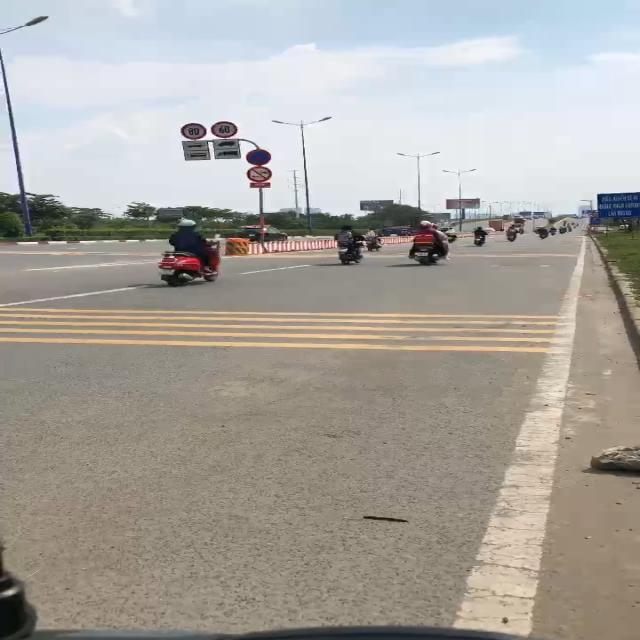Bien bao toc do toi da cho phep: (178, 121, 209, 140), (209, 120, 240, 138)
